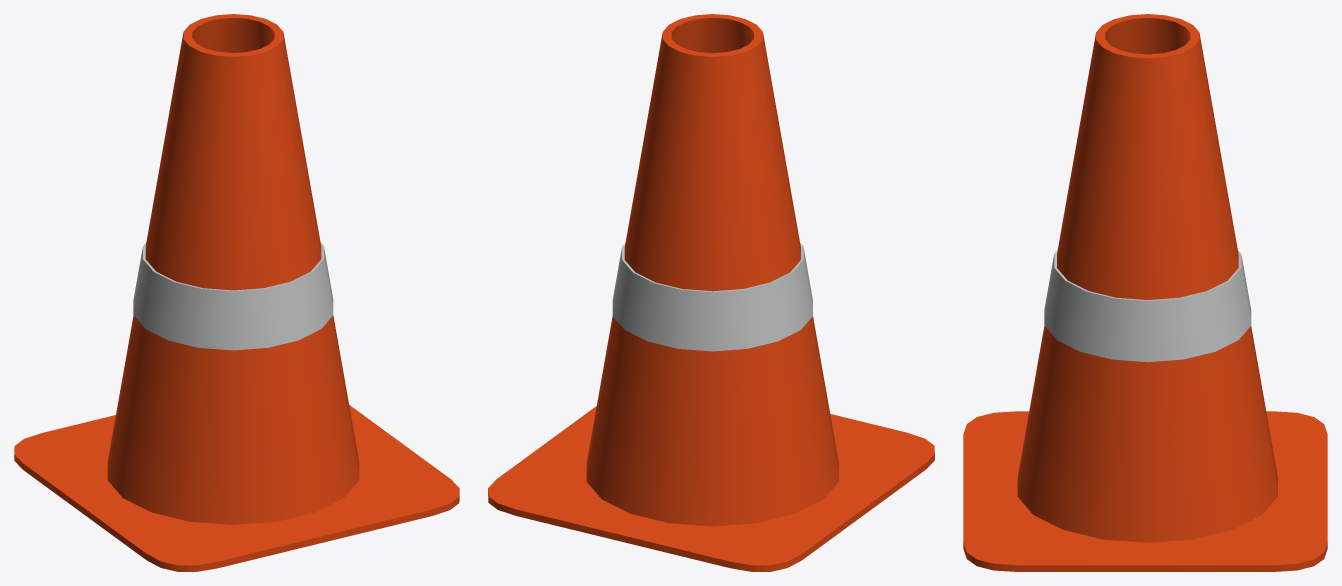
Rendered from Plot.fbx.
The picture shows the model from 3 angles, left to right: view 1: azimuth 30°, elevation 25°; view 2: azimuth 150°, elevation 25°; view 3: azimuth 270°, elevation 25°; orthographic projection. The views are drawn at different scales.
Parts seen in each view (by area): view 1: Plot; view 2: Plot; view 3: Plot.
Part boxes in pixels (x1,y1,x2,y2): Plot: (14, 14, 459, 571); Plot: (488, 14, 934, 571); Plot: (963, 14, 1327, 571).
Bounding box in the file's own units: 52.9 × 73.38 × 52.9.
